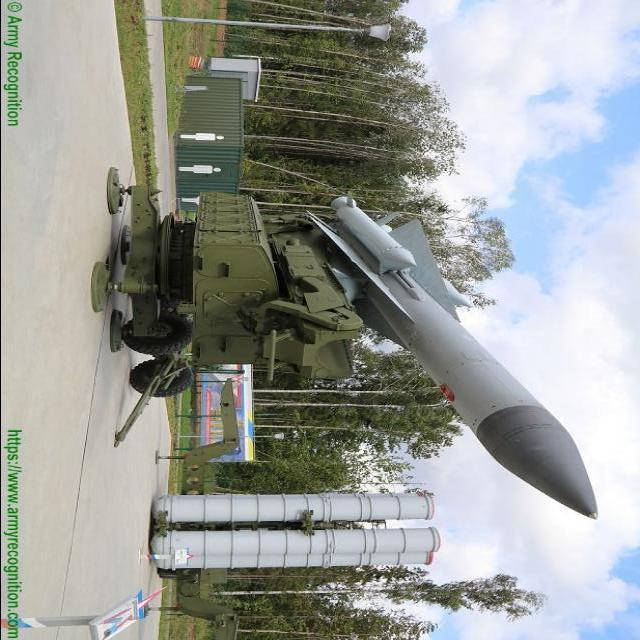missile: (282, 162, 613, 529)
